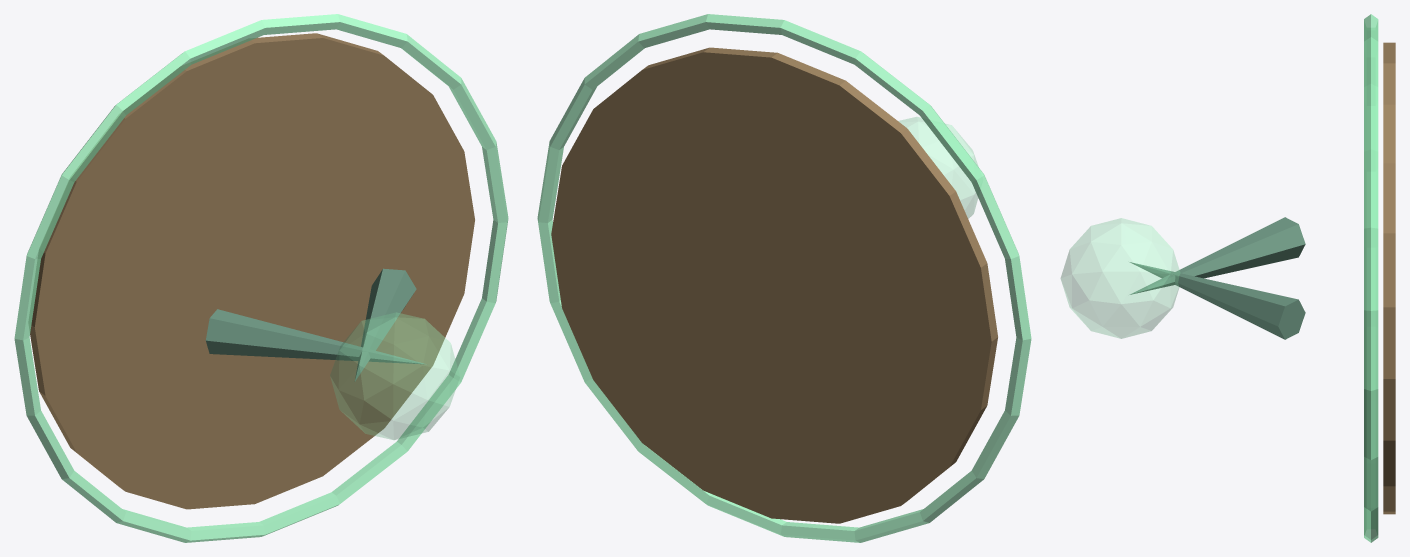
File: 07_weather_terrain_nature_effect.glb
The picture shows the model from 3 angles, left to right: view 1: azimuth 30°, elevation 25°; view 2: azimuth 150°, elevation 25°; view 3: azimuth 270°, elevation 25°; orthographic projection. The views are drawn at different scales.
Parts seen in each view (by area): view 1: terrain_patch, weather_boundary, weather_orb, root_spike_l, root_spike_r; view 2: terrain_patch, weather_boundary, weather_orb; view 3: weather_orb, weather_boundary, terrain_patch, root_spike_r, root_spike_l.
Part boxes in pixels (x1,y1,x2,y2): terrain_patch: (29,33,474,509); weather_boundary: (14,14,508,542); weather_orb: (330,312,459,439); root_spike_l: (205,309,425,364); root_spike_r: (354,268,416,381); terrain_patch: (551,47,997,523); weather_boundary: (537,14,1031,542); weather_orb: (898,117,978,218); weather_orb: (1060,218,1180,338); weather_boundary: (1364,14,1378,542); terrain_patch: (1383,42,1395,514); root_spike_r: (1130,262,1305,339); root_spike_l: (1130,217,1305,294).
Size of the model in its own units: 1.75 by 1.75 by 1.1.
